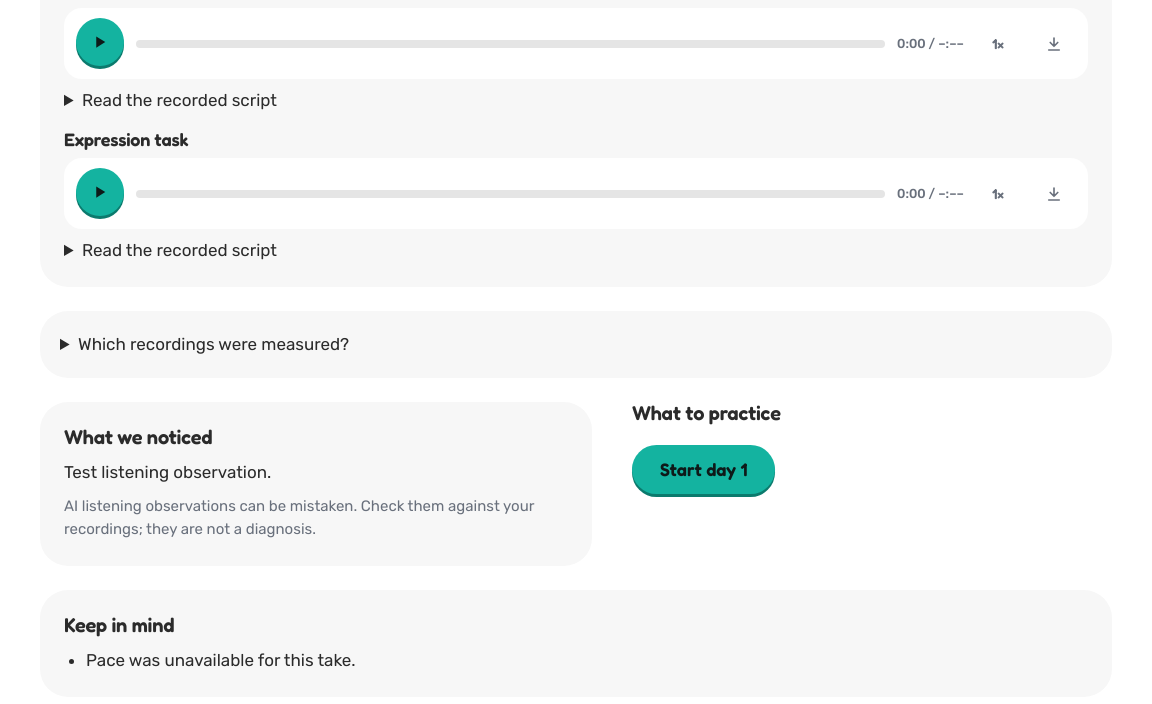
Test case: completed baseline exposes saved limitations, source scripts and private audio
(page scrolled)
Expected: the list item "Pace was unavailable for this take." is shown, top-left (86, 650), bottom-right (356, 670)
Click the heading "Which recordings were measured?": (214,344) top-left (78, 334), bottom-right (349, 354)
(page scrolled)
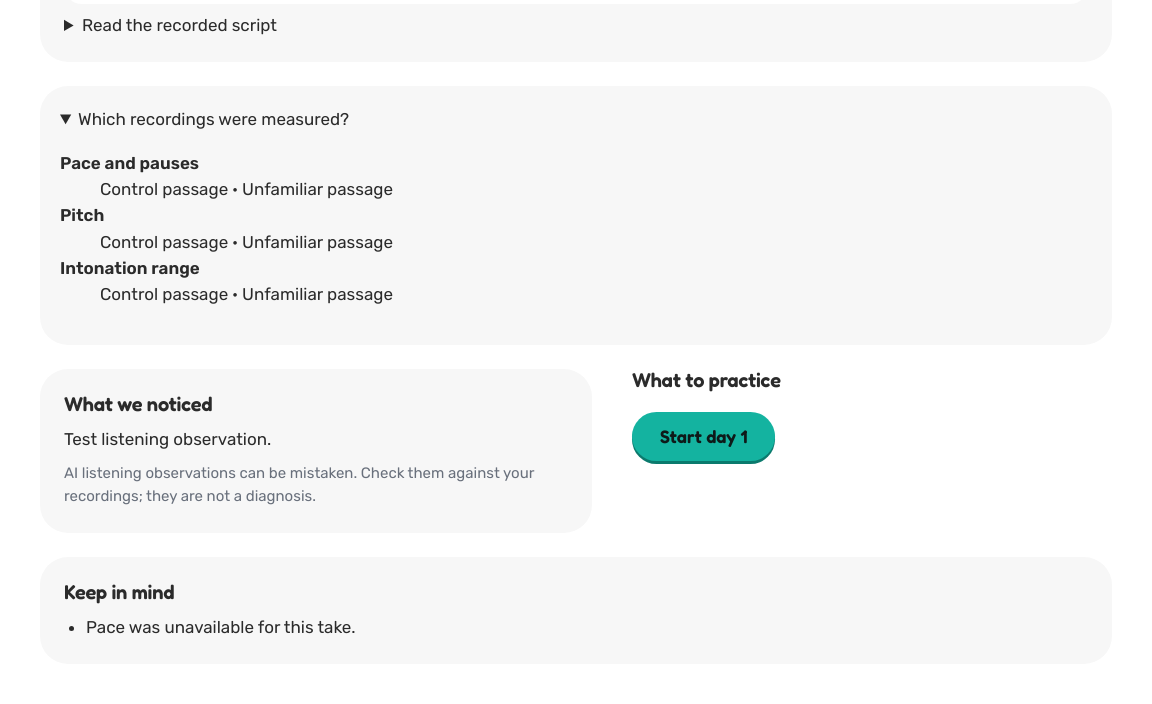
Expected: the text "AI listening observations can be mistaken. Check them against your recordings; they are not a diagnosis." is shown, top-left (64, 464), bottom-right (534, 506)
Expected: the text "Control passage · Unfamiliar passage" is shown 3 times, top-left (100, 179), bottom-right (393, 199); top-left (100, 232), bottom-right (393, 252); top-left (100, 284), bottom-right (393, 304)
